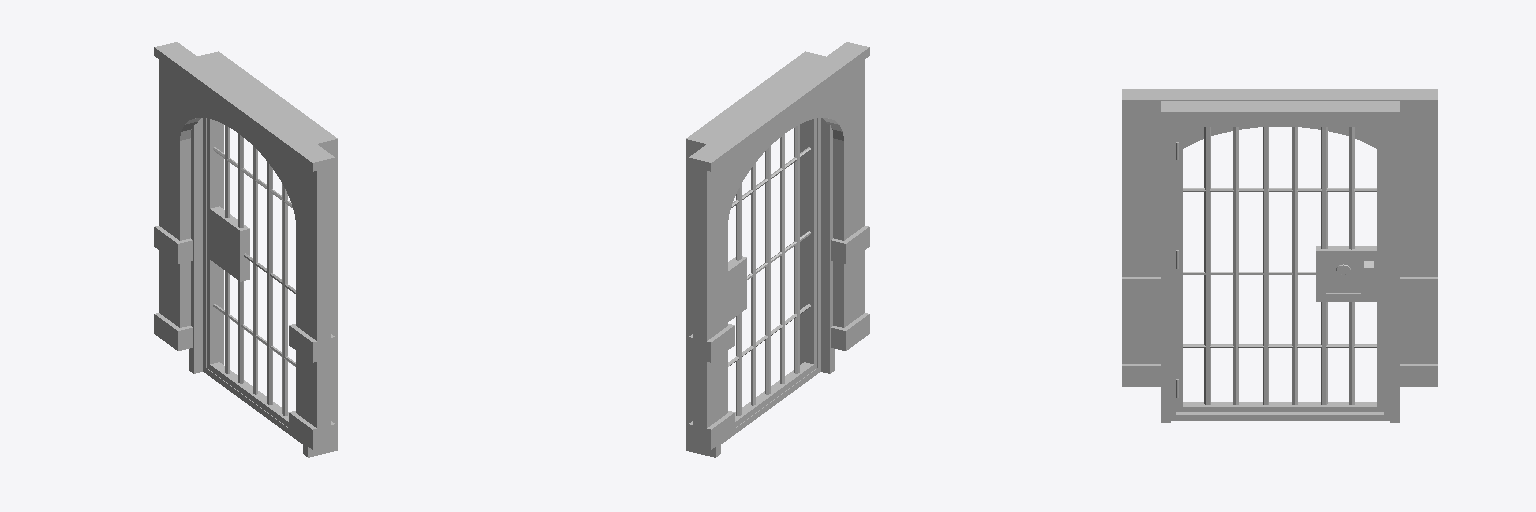
Rendered from metal_door.obj.
3 views of the same model, side by side, from view 1: azimuth 30°, elevation 25°; view 2: azimuth 150°, elevation 25°; view 3: azimuth 270°, elevation 25° (orthographic).
Visible parts, largest first — view 1: Wards_Arch, Door_Metal_Grid_1, Door_Metal_Grid; view 2: Wards_Arch, Door_Metal_Grid_1, Door_Metal_Grid; view 3: Wards_Arch, Door_Metal_Grid_1, Door_Metal_Grid.
Part boxes in pixels (bbox=[...]): Wards_Arch: bbox=[154, 42, 334, 449]; Door_Metal_Grid_1: bbox=[207, 118, 295, 427]; Door_Metal_Grid: bbox=[189, 51, 337, 457]; Wards_Arch: bbox=[689, 42, 869, 449]; Door_Metal_Grid_1: bbox=[728, 118, 816, 427]; Door_Metal_Grid: bbox=[686, 51, 834, 457]; Wards_Arch: bbox=[1122, 89, 1437, 386]; Door_Metal_Grid_1: bbox=[1176, 123, 1383, 411]; Door_Metal_Grid: bbox=[1161, 101, 1399, 422].
Size of the model in its own units: 0.3752 by 2.49 by 2.28.